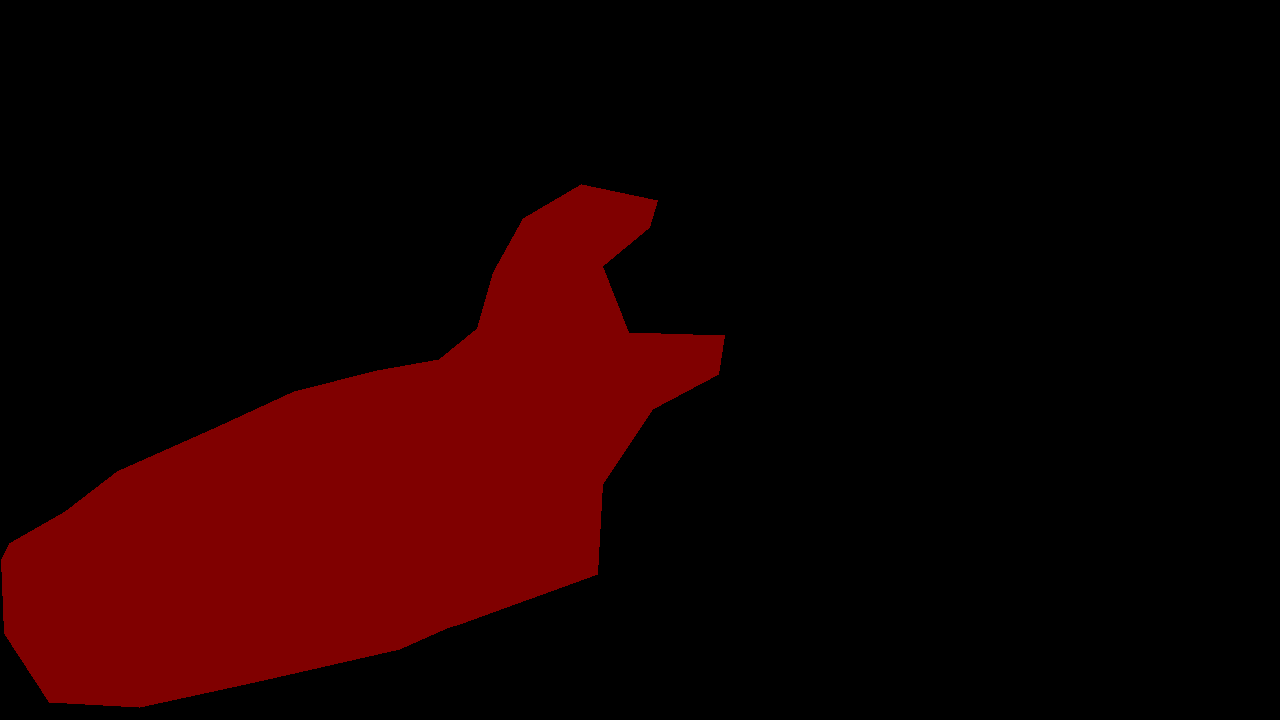fire: (1, 184, 724, 707)
